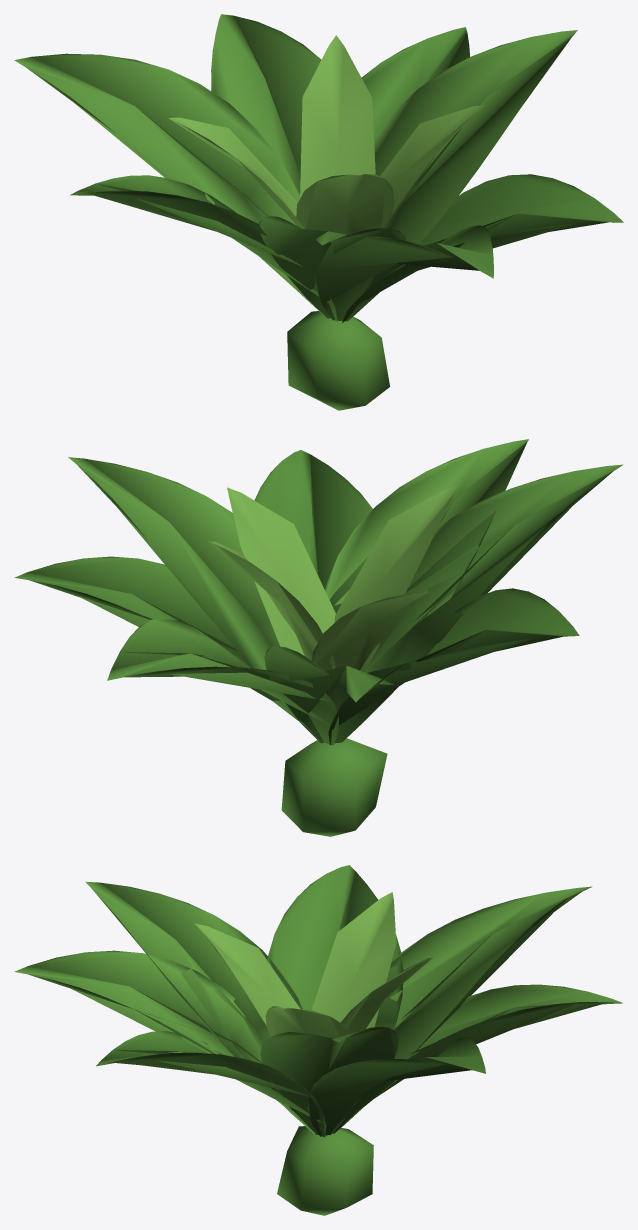
Rendered from fern.far.glb.
3 renders of one model, top to bottom at view 1: azimuth 30°, elevation 25°; view 2: azimuth 150°, elevation 25°; view 3: azimuth 270°, elevation 25°, orthographic. The views are drawn at different scales.
Visible parts, largest first — view 1: fern; view 2: fern; view 3: fern.
Part boxes in pixels (x1,y1,x2,y2): fern: (14, 14, 623, 410); fern: (14, 439, 623, 836); fern: (14, 865, 622, 1215).
Size of the model in its own units: 0.793 by 0.478 by 0.932.
